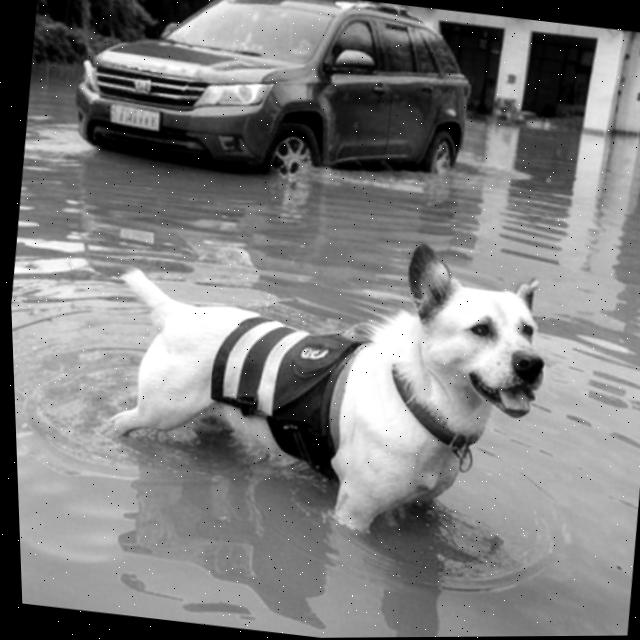dog: (79, 201, 576, 565)
